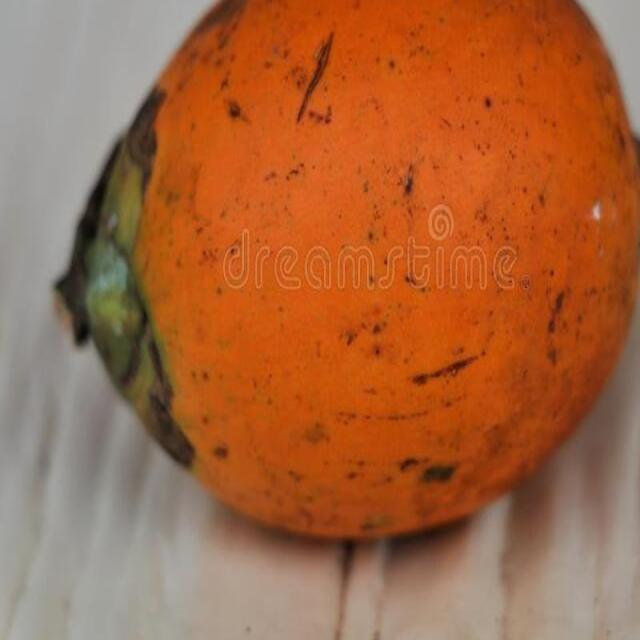good: (54, 0, 639, 548)
